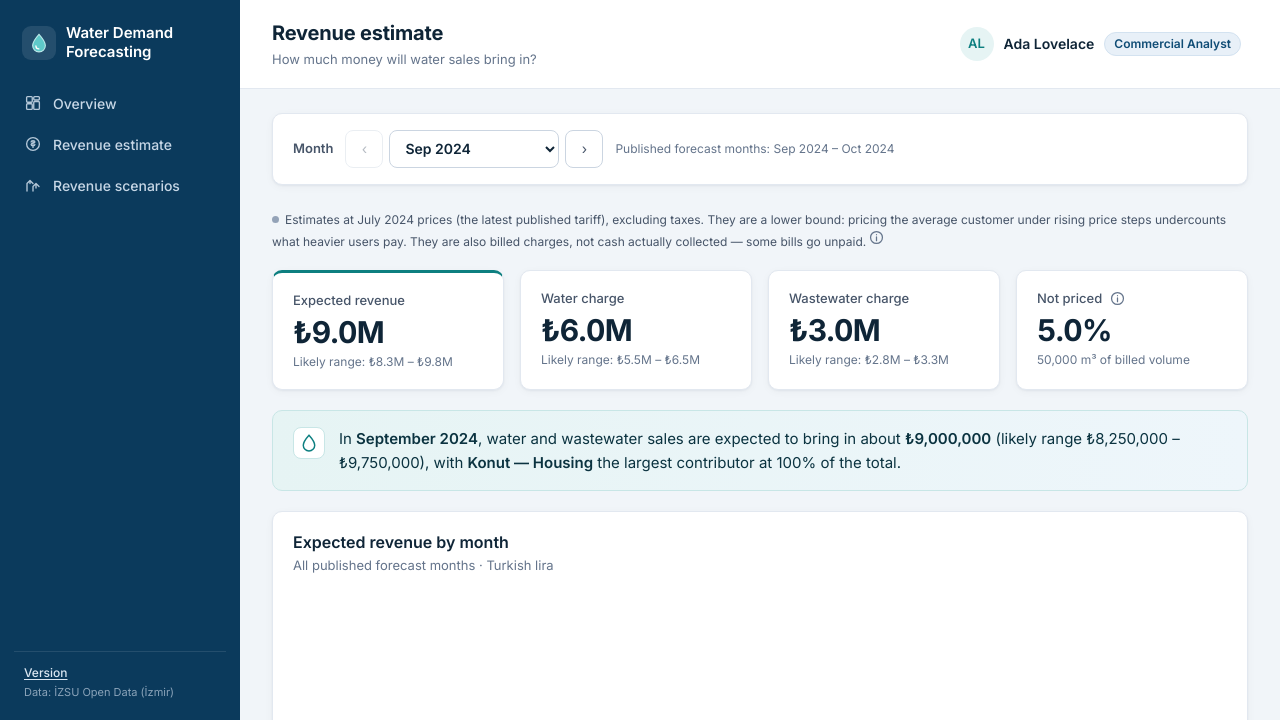
Test case: the not-priced card shows its percentage and reasons
The image size is (1280, 720).
Expected: the text "Not priced" is shown, 1037,290 -> 1126,308
Expected: the text "5.0%" is shown, 1037,312 -> 1112,348
Click the button named "Why is some volume not priced?". click: [1117, 298]
box: 1108,290 -> 1126,308
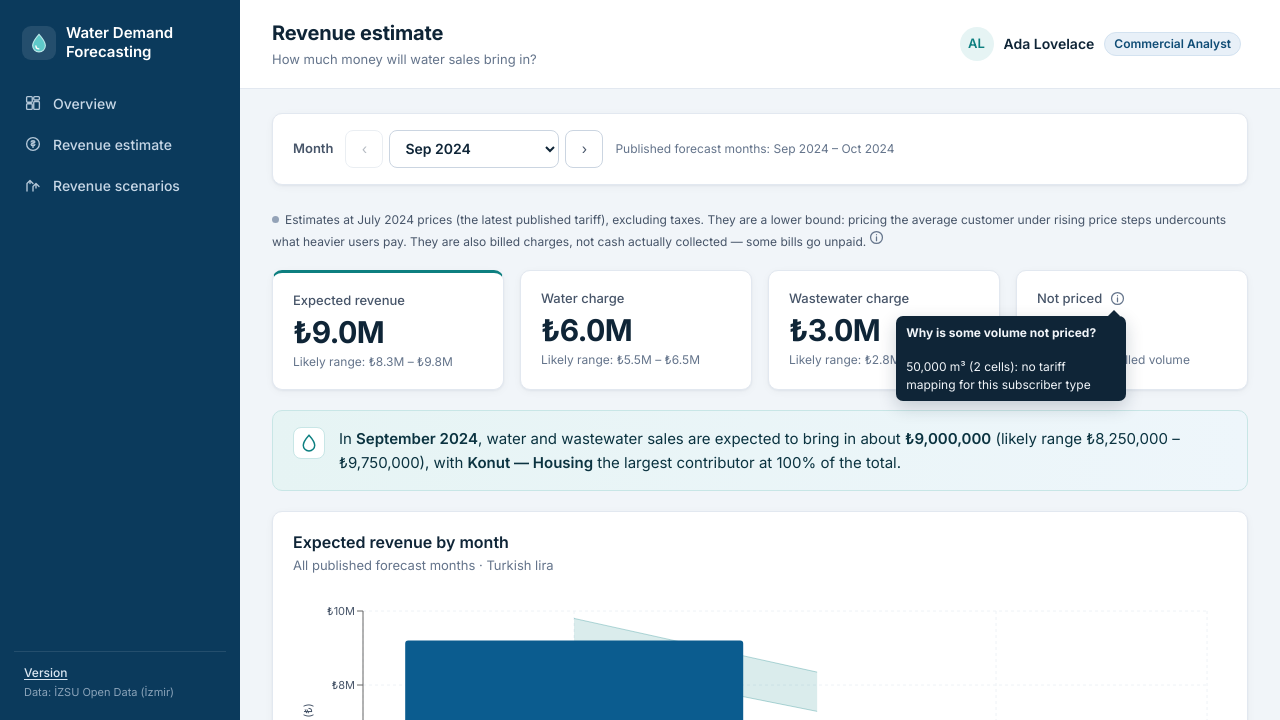
Expected: the text "no tariff mapping for this subscriber type" is shown, 906,359 -> 1091,392
